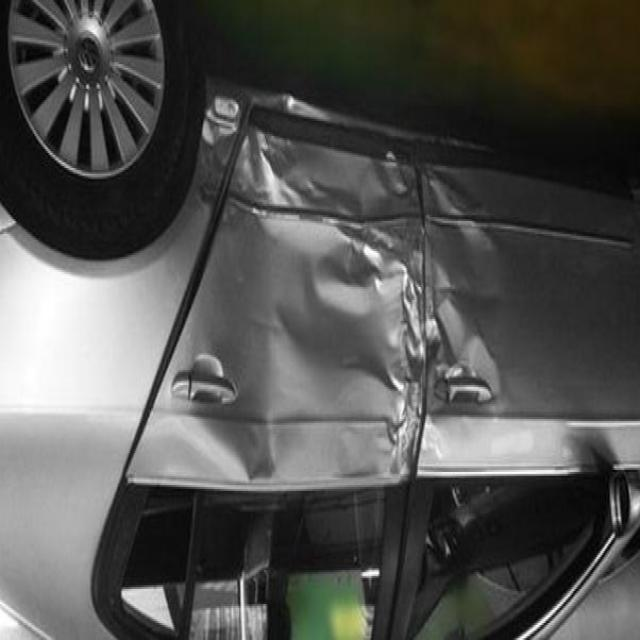dent: (159, 160, 496, 494)
